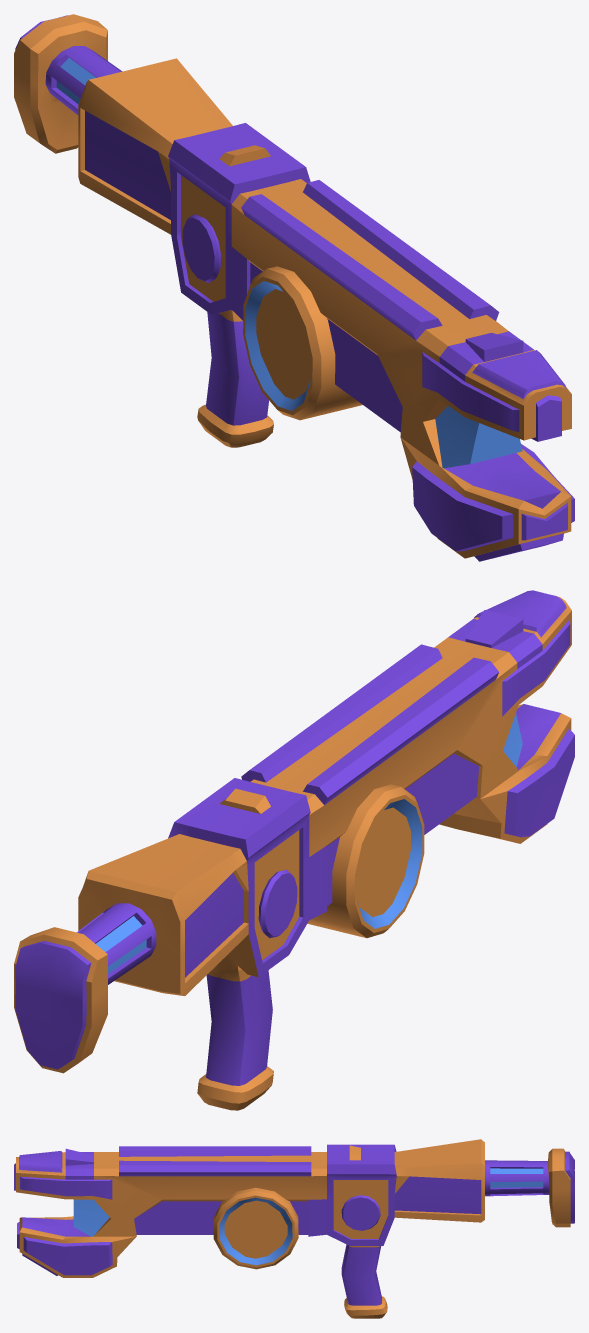
File: PulsarCharger.fbx
3 renders of one model, top to bottom at view 1: azimuth 30°, elevation 25°; view 2: azimuth 150°, elevation 25°; view 3: azimuth 270°, elevation 25°, orthographic. The views are drawn at different scales.
Visible parts, largest first — view 1: PulsarCharger; view 2: PulsarCharger; view 3: PulsarCharger.
Part boxes in pixels (bbox=[...]): PulsarCharger: bbox=[14, 14, 574, 561]; PulsarCharger: bbox=[14, 590, 574, 1110]; PulsarCharger: bbox=[14, 1139, 574, 1318].
Size of the model in its own units: 23.24 by 58.14 by 180.
